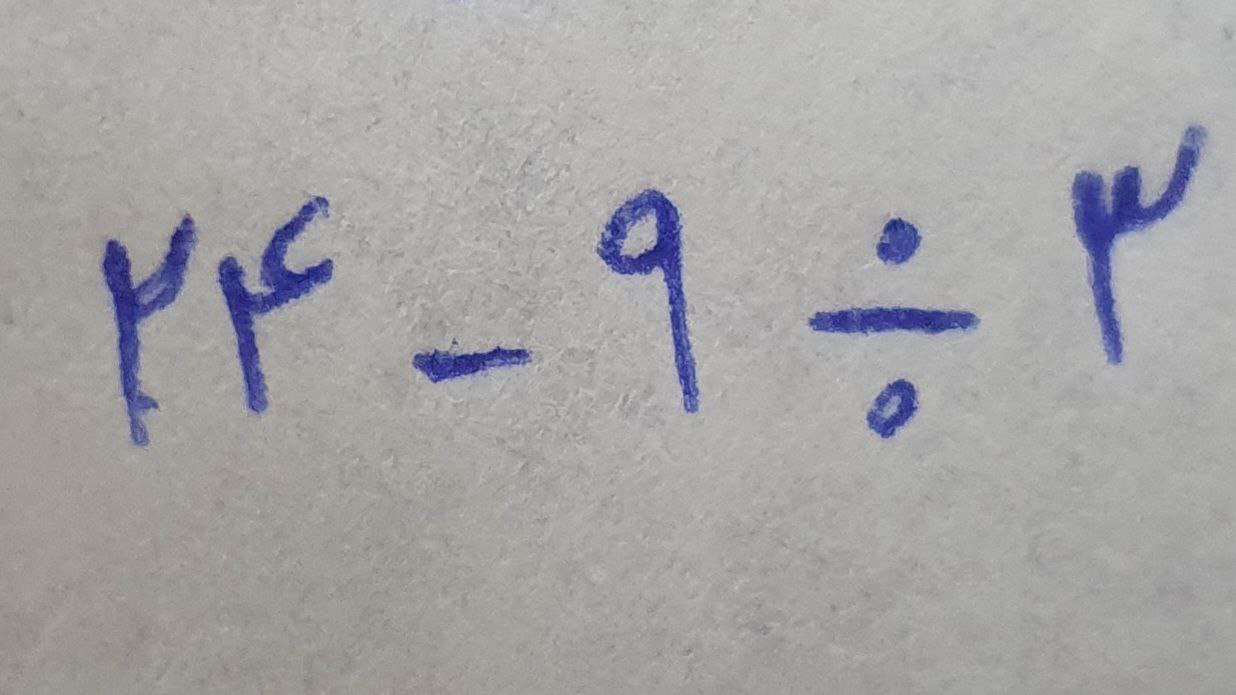character: (808, 217, 979, 442), (1072, 123, 1206, 366), (217, 195, 334, 413), (595, 187, 702, 412), (100, 211, 198, 449), (411, 346, 534, 384)
